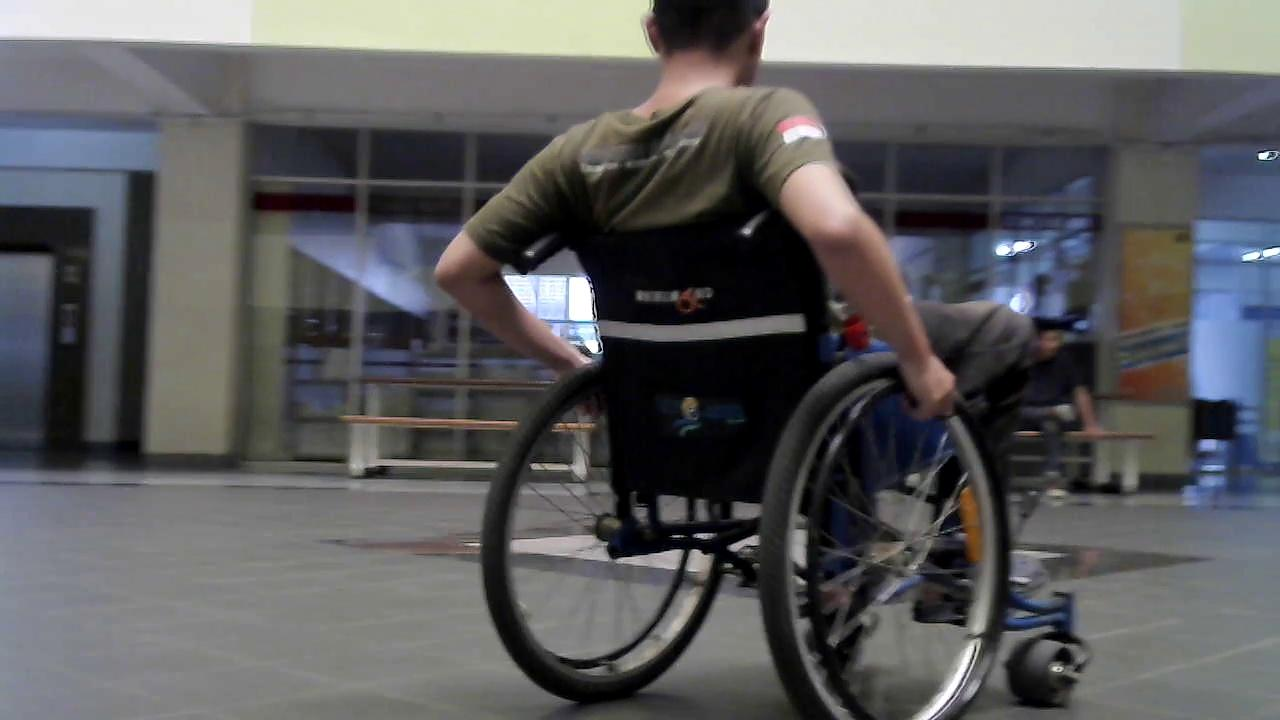person: (429, 2, 1056, 639)
wheelchair: (433, 214, 1087, 713)
